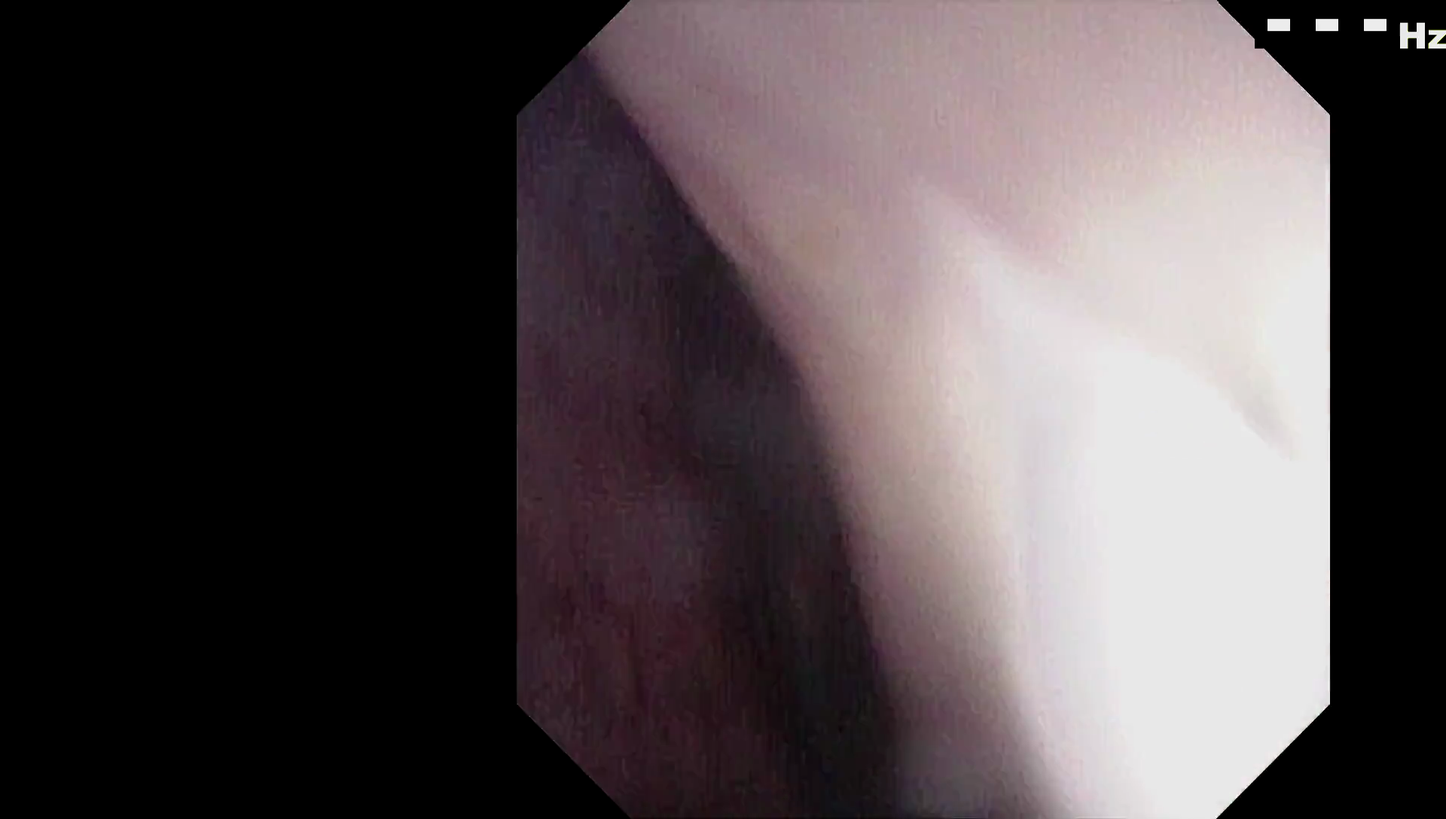close_wall: (862, 43, 1314, 791)
next: (697, 519, 929, 819), (657, 223, 859, 538)
